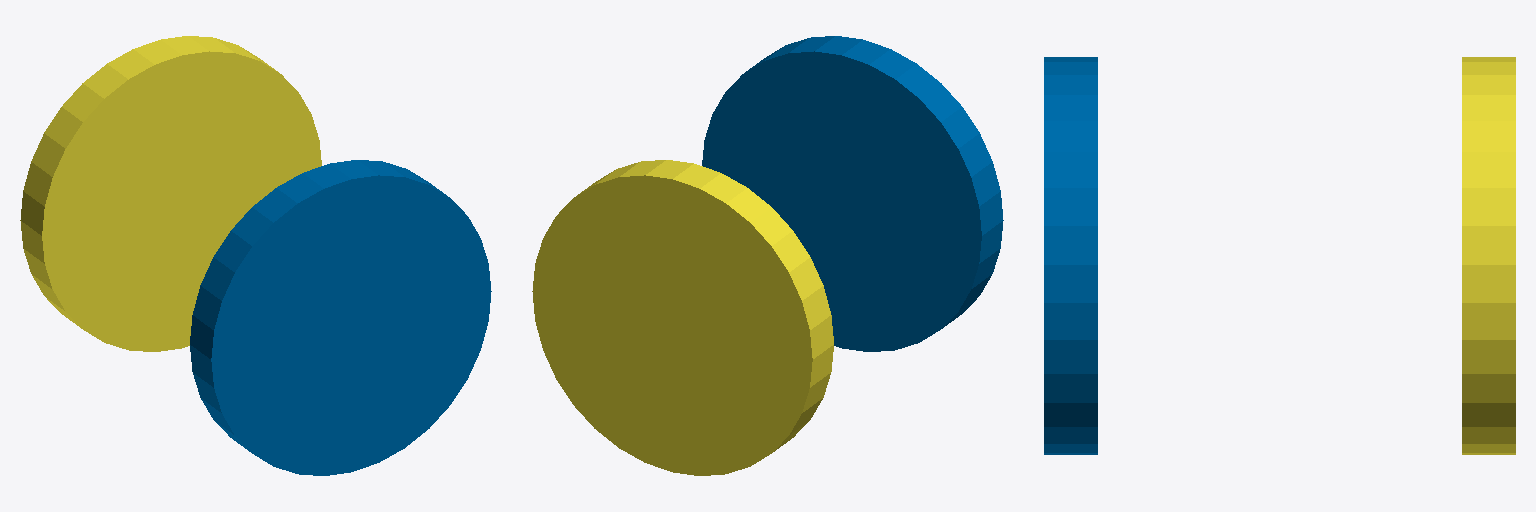
URDF robot description (two_wheel_robot):
<?xml version="1.0"?>

<robot name="two_wheel_robot">


<link name="body_link">
  <inertial>
    <mass value="0.03" />
    <origin xyz="0 0 0.0127" />
    <inertia ixx="0.000032258" ixy="0.0" ixz="0.0"
      iyy="0.000032258" iyz="0.0"
      izz="0.000032258" />
  </inertial>

  <visual>
    <origin xyz="0 0 0.0127" />
    <geometry>
      <mesh filename="package://multi_robot/models/mobile_robot/neuronbot2/meshes/twowheel_body.dae"/>
    </geometry>
  </visual>

  <collision>
    <origin xyz="0 0 0.0127" />
    <geometry>
      <!-- <box size="0.0254 0.0254 0.0254"/> -->
      <mesh filename="package://multi_robot/models/mobile_robot/neuronbot2/meshes/twowheel_body.dae"/>
    </geometry>
  </collision>
</link>

<gazebo reference="body_link">
  <!-- tag name has to be mu1, though in gazebo they are mu and mu2 -->
  <mu1>0.1</mu1>
  <mu2>0.1</mu2>
</gazebo>


<!-- support the robot body from swing front and back -->
<link name="front_sphere">
  <inertial>
    <mass value="0.0000001" />
    <origin xyz="0 0 0" />
    <inertia ixx="0.00000000001" ixy="0.0" ixz="0.0"
      iyy="0.00000000001" iyz="0.0"
      izz="0.00000000001" />
  </inertial>

  <!-- make the sphere invisible -->
<!--   <visual>
    <origin xyz="0 0 0" />
    <geometry>
      <sphere radius="0.002297" />
    </geometry>
  </visual> -->

  <collision>
    <origin xyz="0 0 0" />
    <geometry>
      <sphere radius="0.002297" />
    </geometry>
  </collision>
</link>

<gazebo reference="front_sphere">
  <mu1>0.0</mu1>
  <mu2>0.0</mu2>
</gazebo>

<joint name="front_support" type="fixed">
  <parent link="body_link" />
  <child link="front_sphere" />
  <origin xyz="0.0104 0 0" rpy="0 0 0" />
</joint>


<!-- back sphere support -->
<link name="back_sphere">
  <inertial>
    <mass value="0.0000001" />
    <origin xyz="0 0 0" />
    <inertia ixx="0.00000000001" ixy="0.0" ixz="0.0"
      iyy="0.00000000001" iyz="0.0"
      izz="0.00000000001" />
  </inertial>

<!--   <visual>
    <origin xyz="0 0 0" />
    <geometry>
      <sphere radius="0.002297" />
    </geometry>
  </visual> -->

  <collision>
    <origin xyz="0 0 0" />
    <geometry>
      <sphere radius="0.002297" />
    </geometry>
  </collision>
</link>

<gazebo reference="back_sphere">
  <mu1>0.0</mu1>
  <mu2>0.0</mu2>
</gazebo>

<joint name="back_support" type="fixed">
  <parent link="body_link" />
  <child link="back_sphere" />
  <origin xyz="-0.0104 0 0" rpy="0 0 0" />
</joint>


<link name="left_wheel">
  <inertial>
    <mass value="0.002" />
    <origin xyz="0 0 0.002" />
    <inertia ixx="0.00000005659" ixy="0.0" ixz="0.0"
      iyy="0.00000005659" iyz="0.0"
      izz="0.0000001125" />
  </inertial>

  <!-- use regular cylinder if wanting smooth visual experience -->
  <!-- remember to set color to grey in gazebo tag -->
  <!-- or low definition wheel if wanting to observe wheel rotation -->
  <!-- high definition wheel is not practical, too slow to visualize -->
  <visual>
    <origin xyz="0 0 0.002" />
    <geometry>
      <cylinder radius="0.015" length="0.004" />
      <!-- <mesh filename="package://multi_robot/models/mobile_robot/neuronbot2/meshes/twowheel_left_hd.dae"/> -->
      <!-- <mesh filename="package://multi_robot/models/mobile_robot/neuronbot2/meshes/twowheel_left_ld.dae"/> -->
    </geometry>
  </visual>

  <!-- collision can always be simple as a cylinder -->
  <collision>
    <origin xyz="0 0 0.002" />
    <geometry>
      <cylinder radius="0.015" length="0.004" />
      <!-- <mesh filename="package://multi_robot/models/mobile_robot/neuronbot2/meshes/twowheel_left_hd.dae"/> -->
      <!-- <mesh filename="package://multi_robot/models/mobile_robot/neuronbot2/meshes/twowheel_left_ld.dae"/> -->
    </geometry>
  </collision>
</link>

<gazebo reference="left_wheel">
  <!-- <material>Gazebo/Grey</material> -->
  <material>Gazebo/Red</material>
  <mu1>1</mu1>
  <mu2>0.5</mu2>
</gazebo>


<!-- <link name="left_wheel_mark">
  <inertial>
    <mass value="0.0000001" />
    <origin xyz="0 0 0" />
    <inertia ixx="0.00000000001" ixy="0.0" ixz="0.0"
      iyy="0.00000000001" iyz="0.0"
      izz="0.00000000001" />
  </inertial>

  <visual>
    <origin xyz="0 0 0" />
    <geometry>
      <mesh filename="package://multi_robot/models/mobile_robot/neuronbot2/meshes/twowheel_left_mark.dae"/>
    </geometry>
  </visual>

  <collision>
    <origin xyz="0 0 0" />
    <geometry>
      <mesh filename="package://multi_robot/models/mobile_robot/neuronbot2/meshes/twowheel_left_mark.dae"/>
    </geometry>
  </collision>
</link>

<joint name="left_wheel_mark_fixed" type="continuous">
  <parent link="left_wheel" />
  <child link="left_wheel_mark" />
  <origin xyz="0 0 0.014" rpy="0 0 0" />
  <axis xyz="0 0 1" />
</joint> -->


<link name="right_wheel">
  <inertial>
    <mass value="0.002" />
    <origin xyz="0 0 0.002" />
    <inertia ixx="0.00000005659" ixy="0.0" ixz="0.0"
      iyy="0.00000005659" iyz="0.0"
      izz="0.0000001125" />
  </inertial>

  <visual>
    <origin xyz="0 0 0.002" />
    <geometry>
      <cylinder radius="0.015" length="0.004" />
      <!-- <mesh filename="package://multi_robot/models/mobile_robot/neuronbot2/meshes/twowheel_right_hd.dae"/> -->
      <!-- <mesh filename="package://multi_robot/models/mobile_robot/neuronbot2/meshes/twowheel_right_ld.dae"/> -->
    </geometry>
  </visual>

  <collision>
    <origin xyz="0 0 0.002" />
    <geometry>
      <cylinder radius="0.015" length="0.004" />
      <!-- <mesh filename="package://multi_robot/models/mobile_robot/neuronbot2/meshes/twowheel_right_hd.dae"/> -->
      <!-- <mesh filename="package://multi_robot/models/mobile_robot/neuronbot2/meshes/twowheel_right_ld.dae"/> -->
    </geometry>
  </collision>
</link>

<gazebo reference="right_wheel">
  <!-- <material>Gazebo/Grey</material> -->
  <material>Gazebo/Blue</material>
  <mu1>1</mu1>
  <mu2>0.5</mu2>
</gazebo>


<joint name="left_motor" type="continuous">
  <parent link="body_link" />
  <child link="left_wheel" />
  <origin xyz="0 0.0137 0.0127" rpy="-1.5708 0 0" />
  <axis xyz="0 0 1" />
</joint>


<joint name="right_motor" type="continuous">
  <parent link="body_link" />
  <child link="right_wheel" />
  <!-- <origin xyz="0 0.0177 0.0127" rpy="1.5708 0 0" /> -->
  <origin xyz="0 -0.0137 0.0127" rpy="1.5708 0 0" />
  <axis xyz="0 0 -1" />
<!--   axis setting, invert the direction
  so that two wheels are tuned at the same direction, which means
  when the same wheel position command is given, both wheels will make the same effect
  of pushing the robot forward or backward -->
</joint>


</robot>

--- Facts derived from the render (not from the file) ---
The picture shows the robot from 3 angles, left to right: view 1: azimuth 30°, elevation 25°; view 2: azimuth 150°, elevation 25°; view 3: azimuth 270°, elevation 25°; orthographic projection.
Model two_wheel_robot with 5 links and 4 joints (2 continuous, 2 fixed), rooted at body_link, posed all joints at 0.
Visible links, largest first — view 1: right_wheel, left_wheel; view 2: left_wheel, right_wheel; view 3: left_wheel, right_wheel.
Boxes of the visible links, x1=… form: right_wheel: x1=190, y1=160, x2=491, y2=475; left_wheel: x1=20, y1=36, x2=321, y2=351; left_wheel: x1=532, y1=160, x2=833, y2=475; right_wheel: x1=702, y1=36, x2=1003, y2=351; left_wheel: x1=1462, y1=57, x2=1515, y2=454; right_wheel: x1=1044, y1=57, x2=1097, y2=454.
Bounding box of the posed robot: 0.03 × 0.0354 × 0.03 m (x, y, z).
Meshes: 1 distinct files referenced, 0 mesh visuals loaded (none loaded); not drawn: 1 (reference not matched to a file when rendering).
